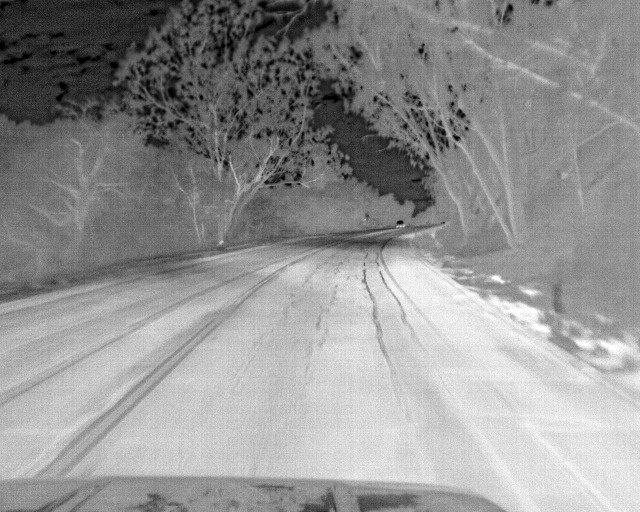car: (393, 217, 410, 229)
